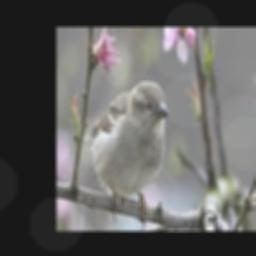Sparrow: (83, 81, 170, 228)
